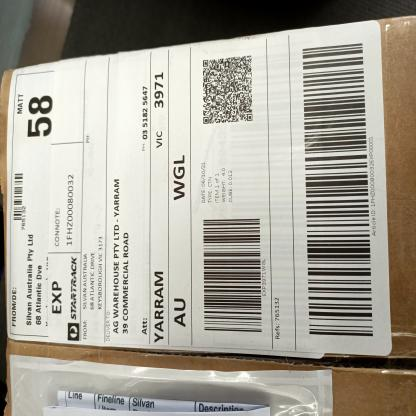label: (10, 20, 399, 354)
package: (7, 14, 416, 368), (6, 352, 416, 416)
